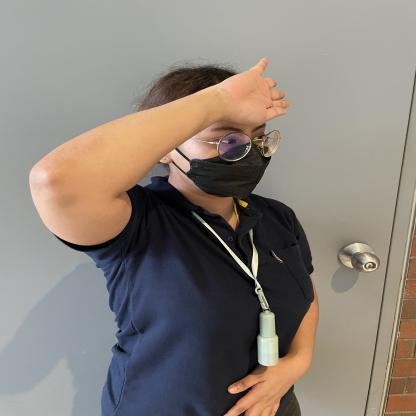Sick: (121, 43, 367, 144)
